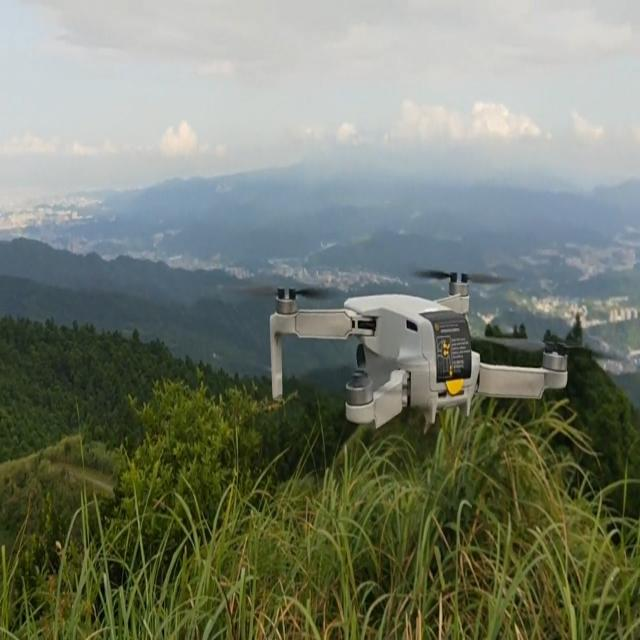Drone: (239, 260, 583, 450)
